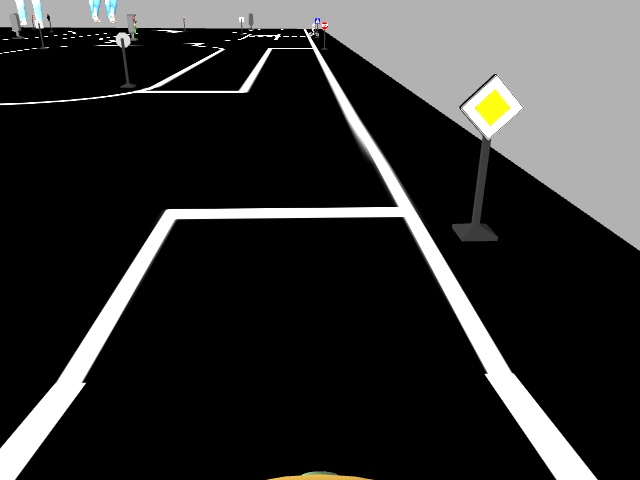Priority: (458, 73, 523, 140)
